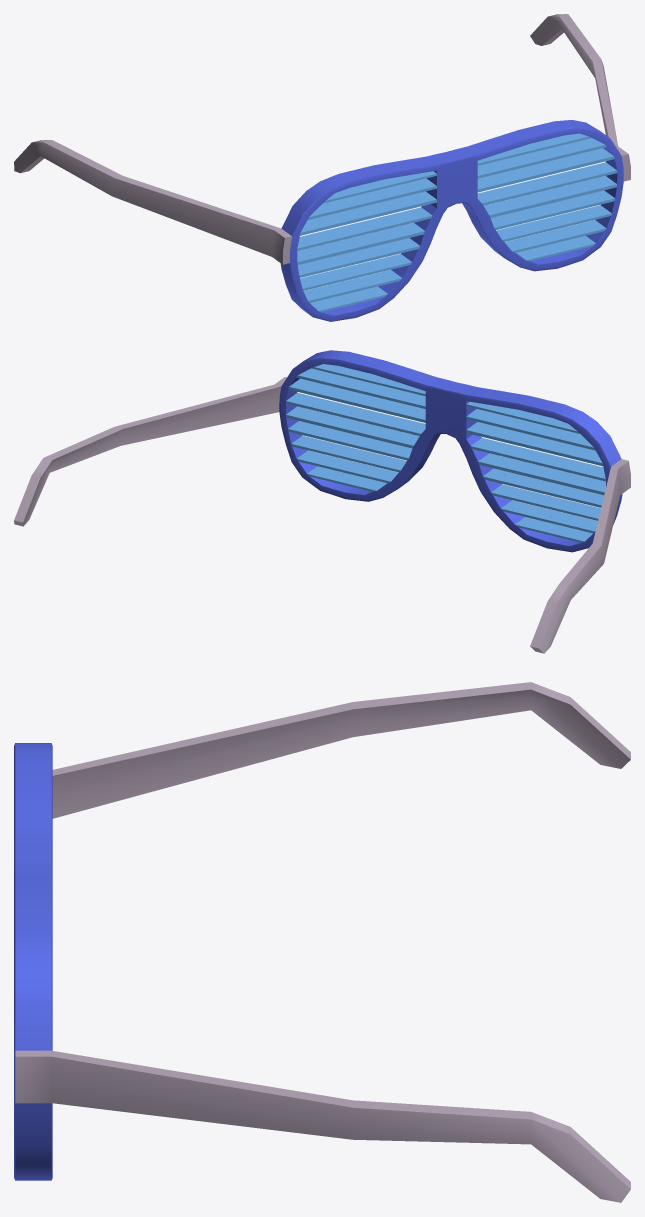
Rendered from Glasses_08_03.fbx.
3 views of the same model, one above another, from view 1: azimuth 30°, elevation 25°; view 2: azimuth 150°, elevation 25°; view 3: azimuth 270°, elevation 25° (orthographic). The views are drawn at different scales.
Visible parts, largest first — view 1: Glasses_08_03; view 2: Glasses_08_03; view 3: Glasses_08_03.
Part boxes in pixels (x1,y1,x2,y2): Glasses_08_03: (14, 14, 630, 321); Glasses_08_03: (14, 350, 630, 653); Glasses_08_03: (14, 682, 630, 1202).
Bounding box in the file's own units: 39.35 × 9.78 × 23.23.
